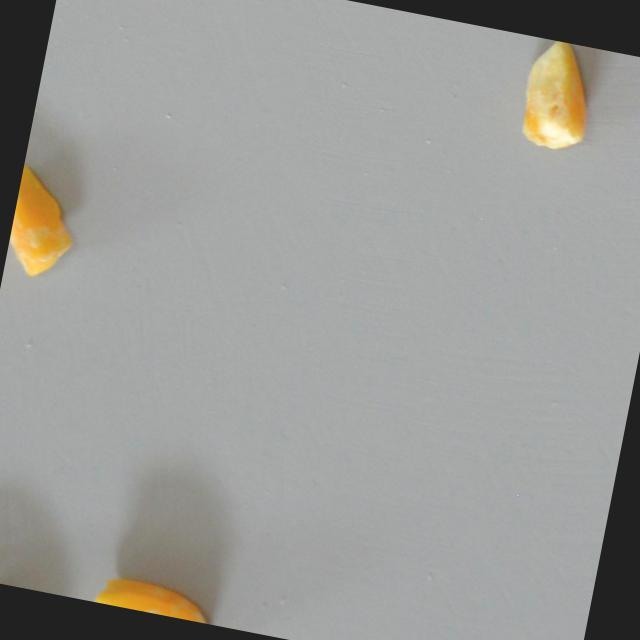dañado: (506, 34, 604, 157), (3, 158, 92, 288), (88, 564, 226, 626), (0, 568, 72, 597)
